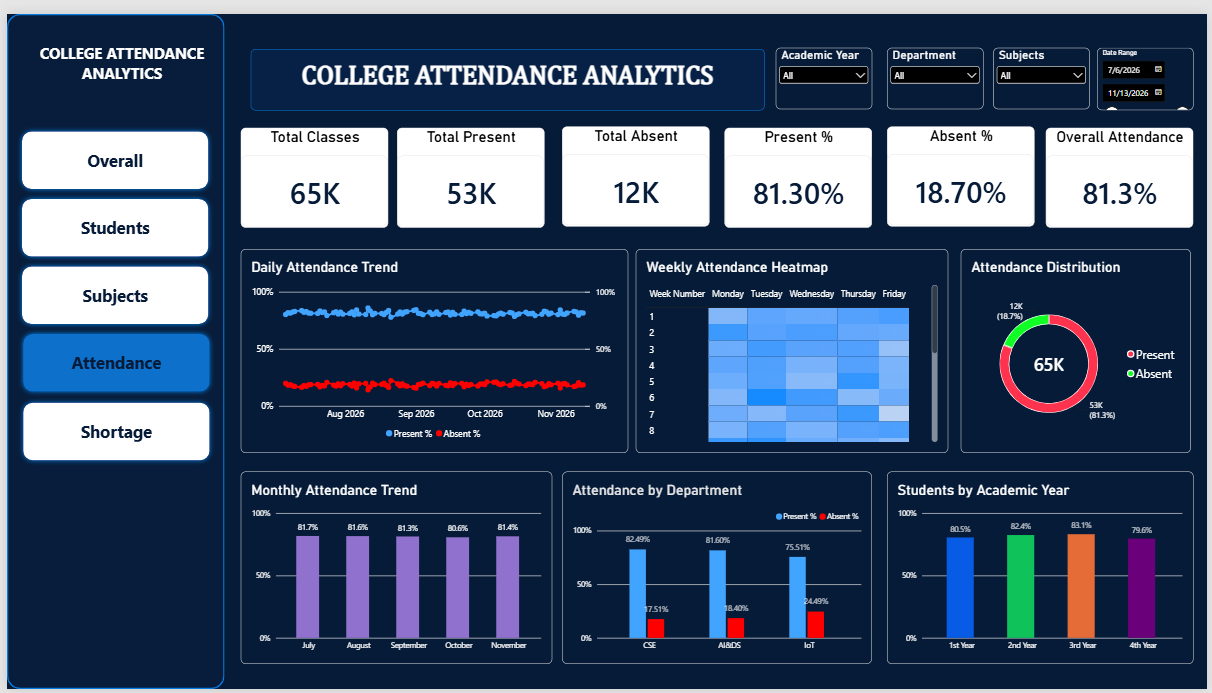

Layout of this report page (visuals, bound fields, positions):
{"tool":"powerbi","page":{"name":"Attendance","canvas":[1920,1080],"ordinal":3},"visuals":[{"type":"cardVisual","title":"Total Classes","fields":{"Data":["FactAttendance.Total Class Sessions"]},"box":[374,182,236,160],"z":0},{"type":"shape","title":"Sidebar Background","box":[0,0,348,1080],"z":1},{"type":"textbox","box":[390,56,822,98],"z":2},{"type":"textbox","box":[10,10,348,412],"z":3},{"type":"cardVisual","title":"Absent %","fields":{"Data":["FactAttendance.Absent %"]},"box":[1408,180,236,160],"z":4},{"type":"cardVisual","title":"Total Absent","fields":{"Data":["FactAttendance.Total Absent"]},"box":[888,180,236,160],"z":5},{"type":"clusteredColumnChart","title":"Monthly Attendance Trend","fields":{"Category":["FactAttendance.SessionDate.Variation.Date Hierarchy.Month"],"Y":["FactAttendance.Overall Attendance %"]},"box":[374,732,498,308],"z":6},{"type":"clusteredColumnChart","title":"Attendance by Department","fields":{"Category":["FactAttendance.Department"],"Y":["FactAttendance.Present %","FactAttendance.Absent %"]},"box":[888,732,496,308],"z":7},{"type":"lineChart","title":"Daily Attendance Trend","fields":{"Category":["FactAttendance.SessionDate"],"Y":["FactAttendance.Present %"],"Y2":["FactAttendance.Absent %"]},"box":[374,376,620,326],"z":10},{"type":"slicer","fields":{"Values":["DimStudent.AcademicYear"]},"box":[1230,54,154,98],"z":12},{"type":"actionButton","box":[16,180,314,108],"z":15},{"type":"actionButton","box":[16,288,314,108],"z":16},{"type":"actionButton","box":[16,396,314,108],"z":17},{"type":"actionButton","box":[18,504,314,108],"z":18},{"type":"actionButton","box":[18,614,314,108],"z":19},{"type":"cardVisual","title":"Total Present","fields":{"Data":["FactAttendance.Total Present"]},"box":[624,182,236,160],"z":21},{"type":"cardVisual","title":"Present %","fields":{"Data":["FactAttendance.Present %"]},"box":[1148,182,236,160],"z":22},{"type":"cardVisual","title":"Overall Attendance","fields":{"Data":["FactAttendance.Overall Attendance %"]},"box":[1662,182,236,160],"z":23},{"type":"pivotTable","title":"Weekly Attendance Heatmap","fields":{"Columns":["FactAttendance.DayName"],"Rows":["FactAttendance.Week Number"],"Values":["FactAttendance.Subject Attendance %"]},"box":[1006,376,500,326],"z":24},{"type":"clusteredColumnChart","title":"Students by Academic Year","fields":{"Category":["DimStudent.Year Label"],"Y":["FactAttendance.Overall Attendance %"]},"box":[1408,732,490,308],"z":25},{"type":"donutChart","title":"Attendance Distribution","fields":{"Category":["FactAttendance.AttendanceStatus"],"Y":["Sum(FactAttendance.Total Classes)"]},"box":[1526,376,368,326],"z":27},{"type":"slicer","fields":{"Values":["DimSubject.Department"]},"box":[1408,54,154,98],"z":28},{"type":"slicer","fields":{"Values":["DimSubject.SubjectCode"]},"box":[1578,54,154,98],"z":29},{"type":"slicer","fields":{"Values":["FactAttendance.SessionDate"]},"box":[1744,54,154,100],"z":30}]}

Visuals, with their boxes in screenshot pixels (x1, y1, x2, y2), scaled from the page's 1920x1080 canvas onto the 1212x693 screenshot:
"Total Classes" cardVisual: {"left": 236, "top": 117, "right": 385, "bottom": 219}
"Sidebar Background" shape: {"left": 0, "top": 0, "right": 220, "bottom": 692}
textbox: {"left": 246, "top": 36, "right": 765, "bottom": 99}
textbox: {"left": 6, "top": 6, "right": 226, "bottom": 271}
"Absent %" cardVisual: {"left": 889, "top": 116, "right": 1038, "bottom": 218}
"Total Absent" cardVisual: {"left": 561, "top": 116, "right": 710, "bottom": 218}
"Monthly Attendance Trend" clusteredColumnChart: {"left": 236, "top": 470, "right": 550, "bottom": 667}
"Attendance by Department" clusteredColumnChart: {"left": 561, "top": 470, "right": 874, "bottom": 667}
"Daily Attendance Trend" lineChart: {"left": 236, "top": 241, "right": 627, "bottom": 450}
slicer - DimStudent.AcademicYear: {"left": 776, "top": 35, "right": 874, "bottom": 98}
actionButton: {"left": 10, "top": 116, "right": 208, "bottom": 185}
actionButton: {"left": 10, "top": 185, "right": 208, "bottom": 254}
actionButton: {"left": 10, "top": 254, "right": 208, "bottom": 323}
actionButton: {"left": 11, "top": 323, "right": 210, "bottom": 393}
actionButton: {"left": 11, "top": 394, "right": 210, "bottom": 463}
"Total Present" cardVisual: {"left": 394, "top": 117, "right": 543, "bottom": 219}
"Present %" cardVisual: {"left": 725, "top": 117, "right": 874, "bottom": 219}
"Overall Attendance" cardVisual: {"left": 1049, "top": 117, "right": 1198, "bottom": 219}
"Weekly Attendance Heatmap" pivotTable: {"left": 635, "top": 241, "right": 951, "bottom": 450}
"Students by Academic Year" clusteredColumnChart: {"left": 889, "top": 470, "right": 1198, "bottom": 667}
"Attendance Distribution" donutChart: {"left": 963, "top": 241, "right": 1196, "bottom": 450}
slicer - DimSubject.Department: {"left": 889, "top": 35, "right": 986, "bottom": 98}
slicer - DimSubject.SubjectCode: {"left": 996, "top": 35, "right": 1093, "bottom": 98}
slicer - FactAttendance.SessionDate: {"left": 1101, "top": 35, "right": 1198, "bottom": 99}
